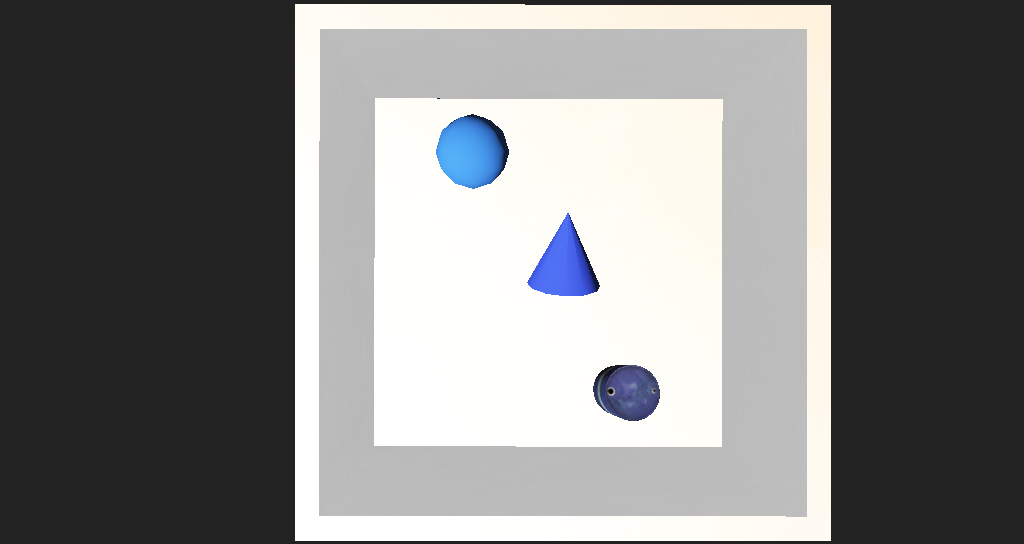cone: (546, 322, 600, 365)
cylinder: (485, 224, 552, 282)
sphere: (404, 174, 472, 217)
